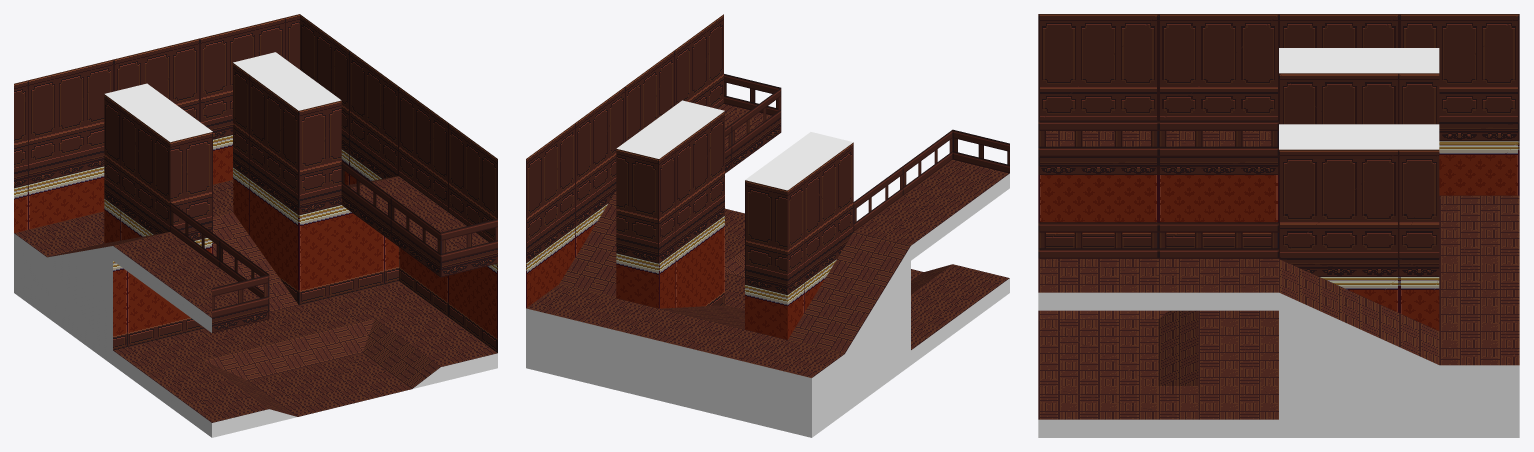
File: room-model.gltf
The picture shows the model from 3 angles, left to right: view 1: azimuth 30°, elevation 25°; view 2: azimuth 150°, elevation 25°; view 3: azimuth 270°, elevation 25°; orthographic projection. The views are drawn at different scales.
Parts seen in each view (by area): view 1: Floor1, BlackSidingLeft, Trim, Floor2, WallLargeC.020, WallLargeB.002, Stairs, WallLargeC.017, WallLargeC.008, WallLargeA.007, WallLargeC.006, WallLargeA.006 (+30 smaller); view 2: Stairs, BlackSidingBack, BlackSidingLeft, Floor2, Floor1, Trim, WallLargeA.008, WallLargeC.006, WallLargeC.008, WallLargeA.007, WallLargeB.005, WallLargeB.007 (+19 smaller); view 3: BlackSidingLRight, Floor1, Stairs, WallLargeC.009, WallLargeA.011, WallLargeA.012, Floor2, WallLargeA.009, Trim, WallGroundLeftB, WallGroundLeftA, WallLargeC.023 (+12 smaller).
Boxes of the visible parts, x1,y1,x2,y2 form: Floor1: [113, 281, 497, 422]; BlackSidingLeft: [14, 233, 296, 437]; Trim: [14, 120, 497, 333]; Floor2: [113, 176, 488, 317]; WallLargeC.020: [28, 59, 113, 169]; WallLargeB.002: [299, 205, 384, 304]; Stairs: [14, 176, 397, 312]; WallLargeC.017: [200, 17, 285, 126]; WallLargeC.008: [120, 106, 170, 231]; WallLargeA.007: [349, 50, 398, 175]; WallLargeC.006: [249, 75, 298, 200]; WallLargeA.006: [399, 87, 448, 211]; Stairs: [526, 191, 910, 377]; BlackSidingBack: [526, 308, 811, 437]; BlackSidingLeft: [812, 173, 1009, 437]; Floor2: [717, 103, 1009, 245]; Floor1: [725, 208, 1009, 349]; Trim: [526, 118, 853, 294]; WallLargeA.008: [526, 123, 575, 248]; WallLargeC.006: [675, 111, 724, 236]; WallLargeC.008: [804, 142, 853, 267]; WallLargeA.007: [575, 87, 624, 211]; WallLargeB.005: [616, 149, 658, 248]; WallLargeB.007: [745, 180, 787, 279]; BlackSidingLRight: [1038, 292, 1519, 437]; Floor1: [1038, 310, 1278, 419]; Stairs: [1279, 195, 1519, 365]; WallLargeC.009: [1279, 149, 1399, 258]; WallLargeA.011: [1158, 14, 1278, 120]; WallLargeA.012: [1038, 14, 1158, 120]; Floor2: [1038, 131, 1278, 292]; WallLargeA.009: [1399, 14, 1519, 122]; Trim: [1038, 123, 1519, 276]; WallGroundLeftB: [1158, 175, 1278, 248]; WallGroundLeftA: [1038, 175, 1158, 248]; WallLargeC.023: [1279, 73, 1399, 124].
Size of the model in its own units: 10 by 7 by 12.
4 materials, 3 textured.
